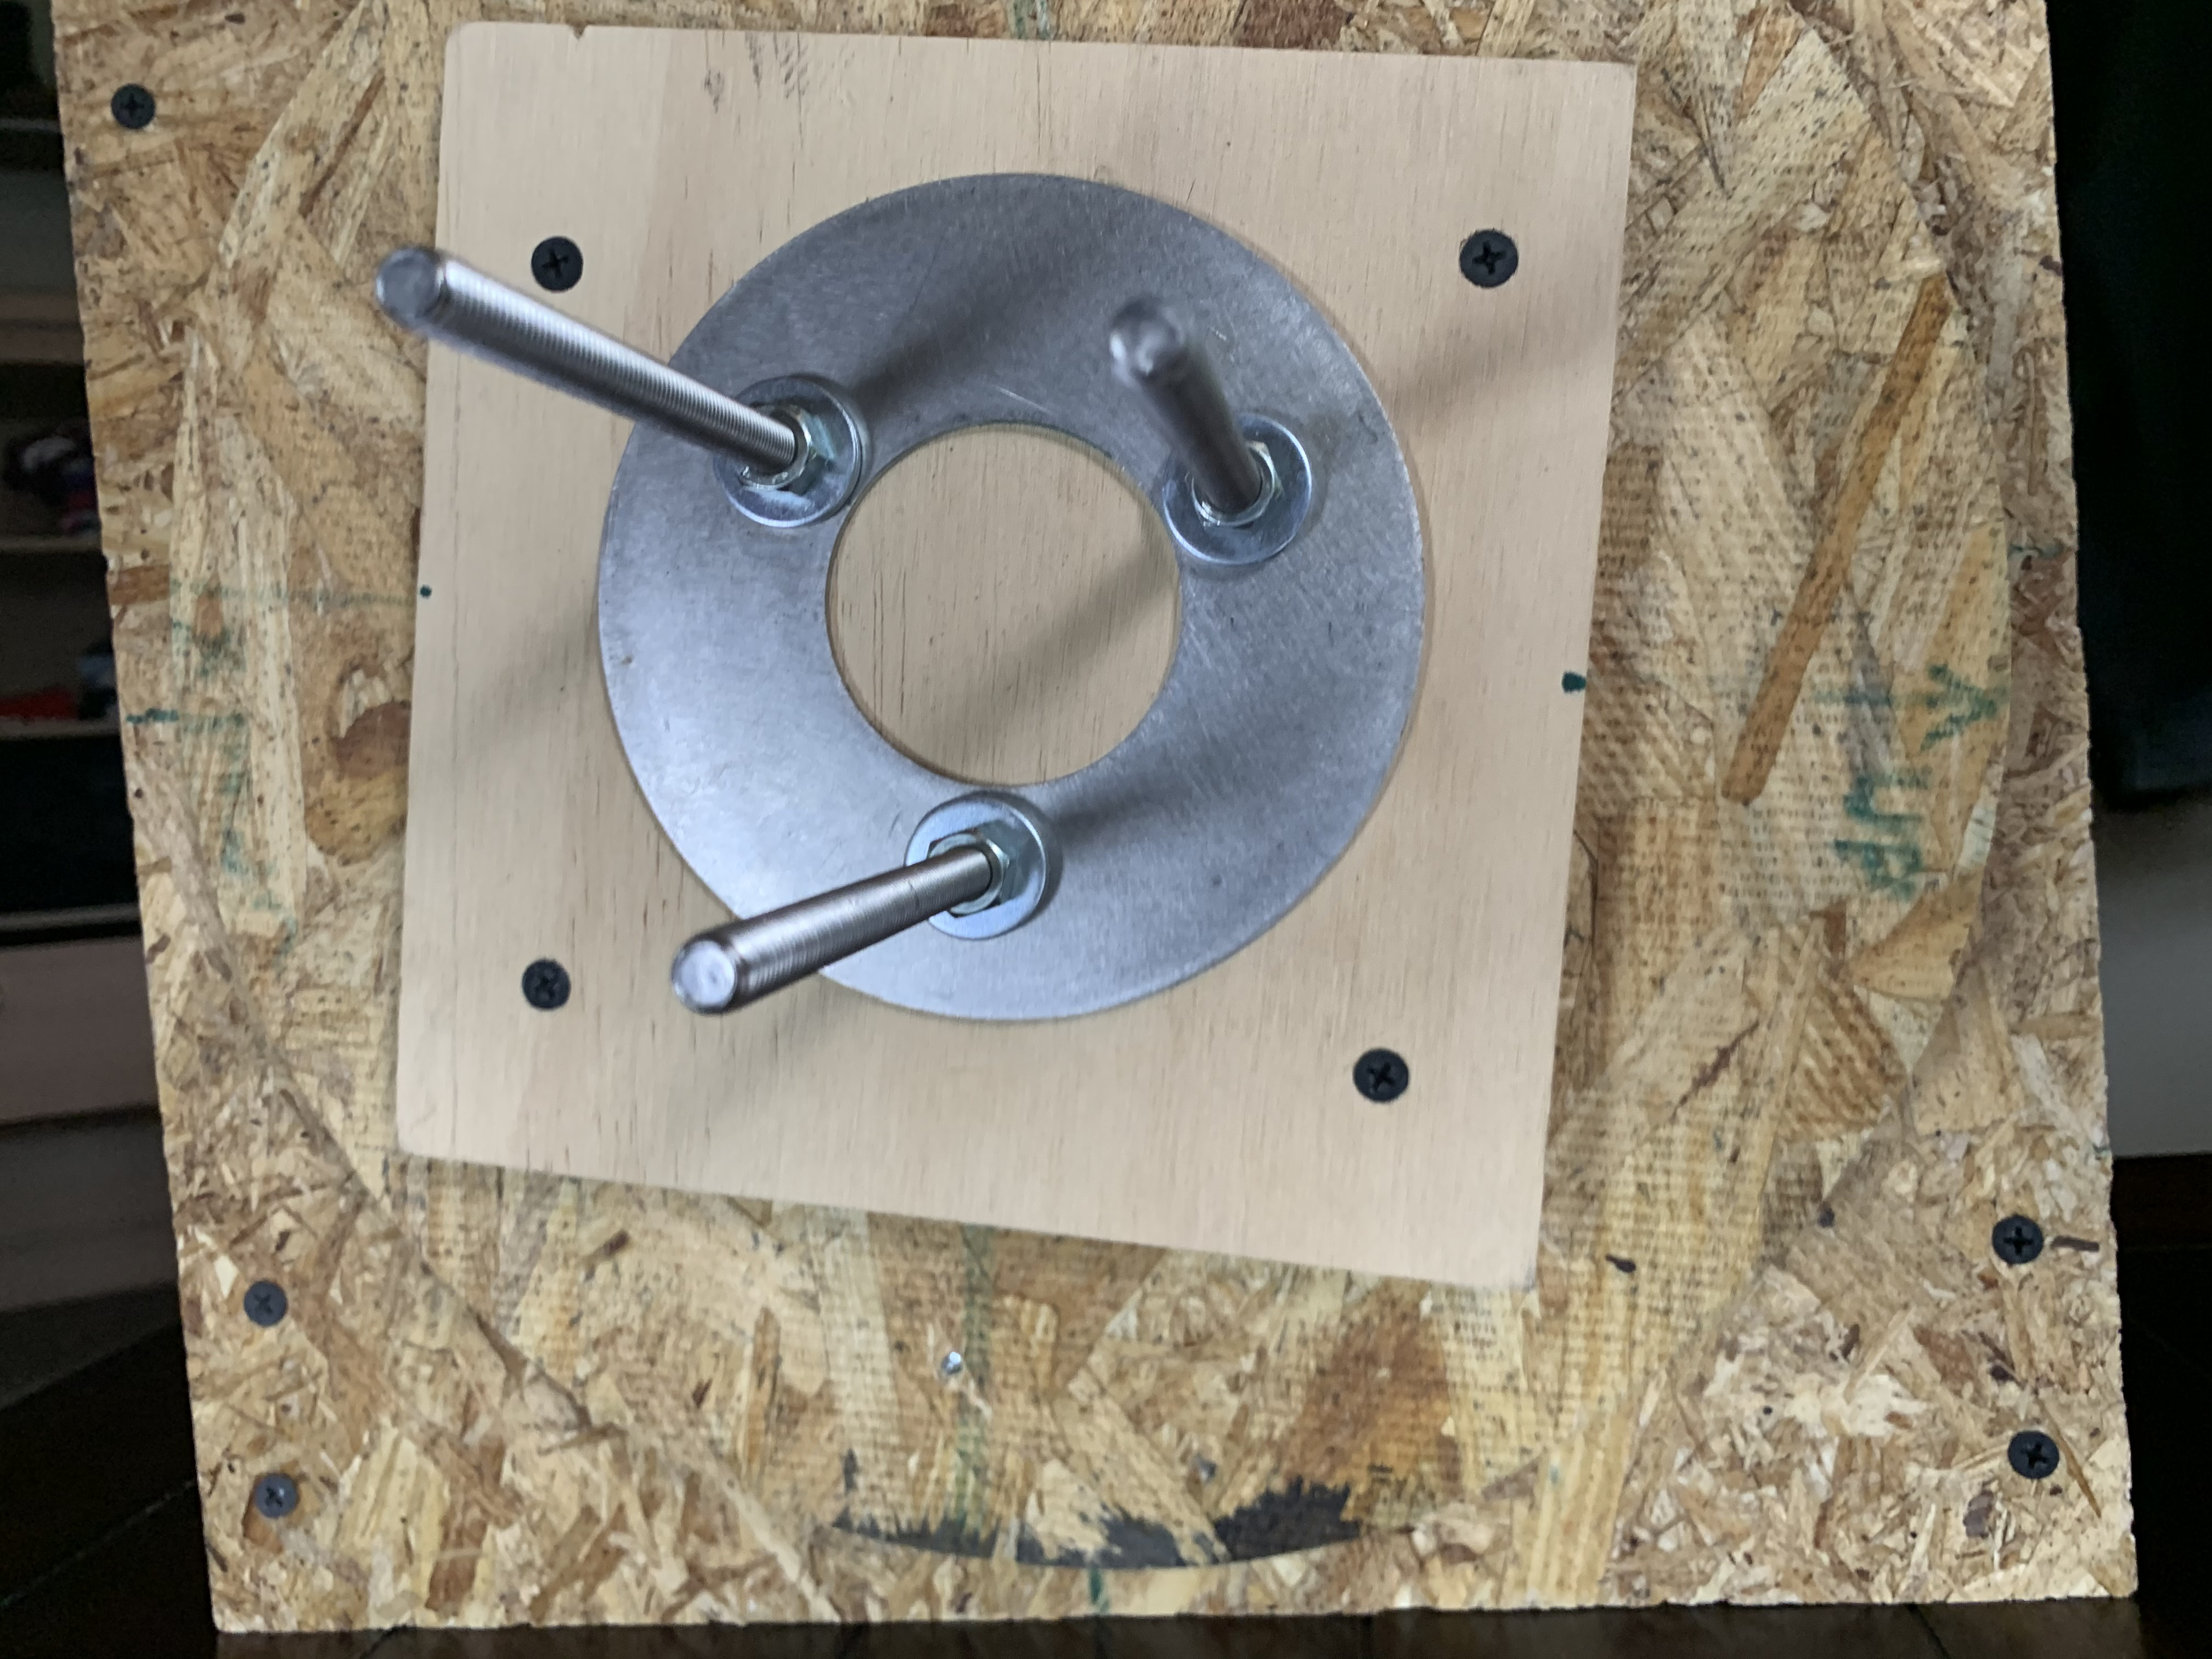bolt: (705, 373, 871, 533), (1155, 413, 1320, 568), (902, 786, 1059, 945)
